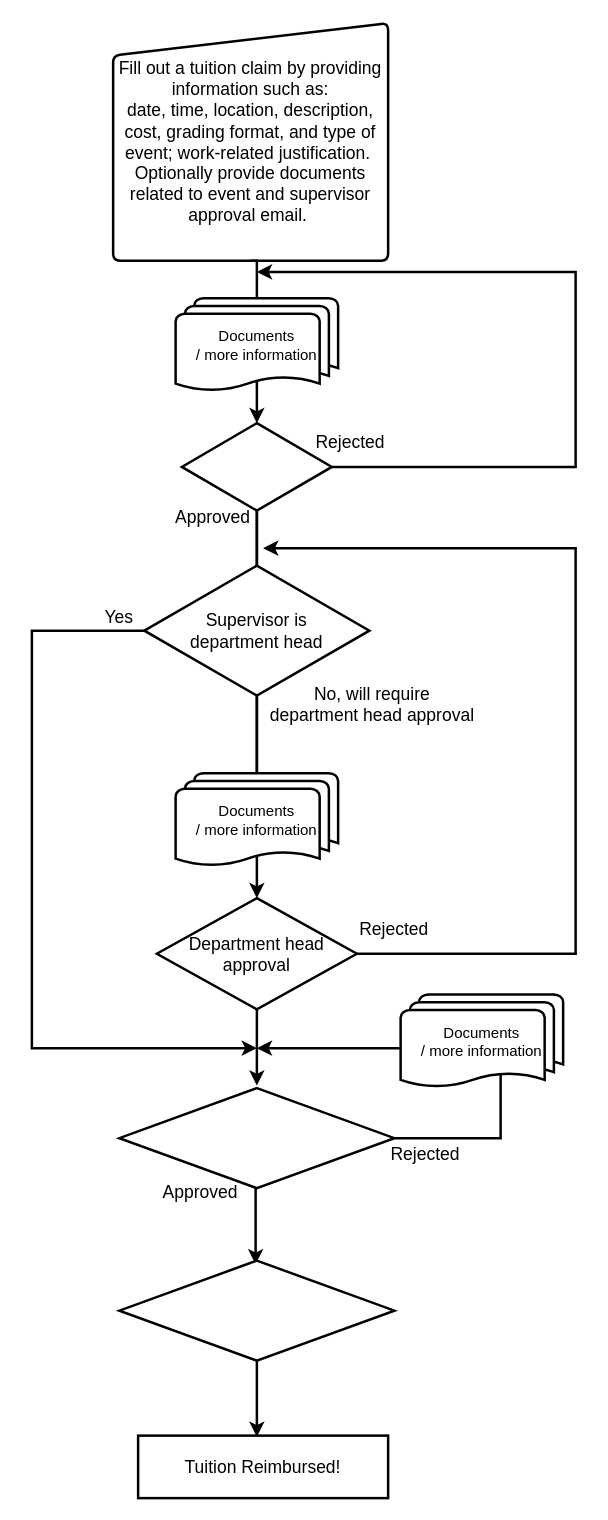
Image size: 608x1520. Some labels were removed from this diagram. The centre of each missing label's shape, as x and y in pixels:
"Benefits Coordinator Approval" goes at point 256,1137.
"Grade/Presentation Confirmed" goes at point 256,1310.
"Supervisor Approval" goes at point 256,466.
